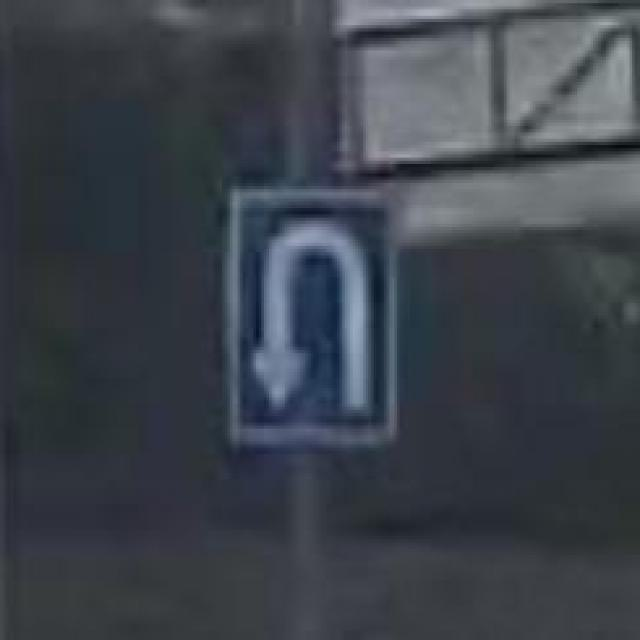U-turn: (228, 190, 393, 446)
